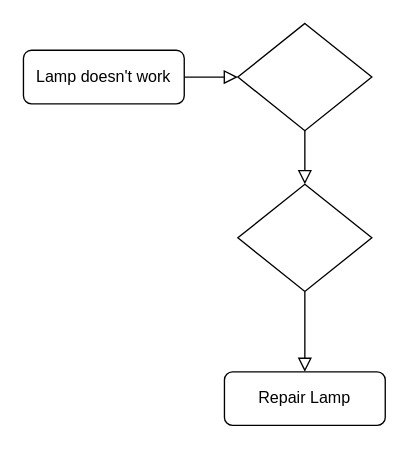
Some shapes in this 409 by 449 pixel diagram are drawn without their labels. Here are the shapes that lost their labels. From the top down, the box of each, then its label:
(237, 22, 372, 131): Lamp plugged in?
(237, 183, 372, 291): Bulb burned out?
